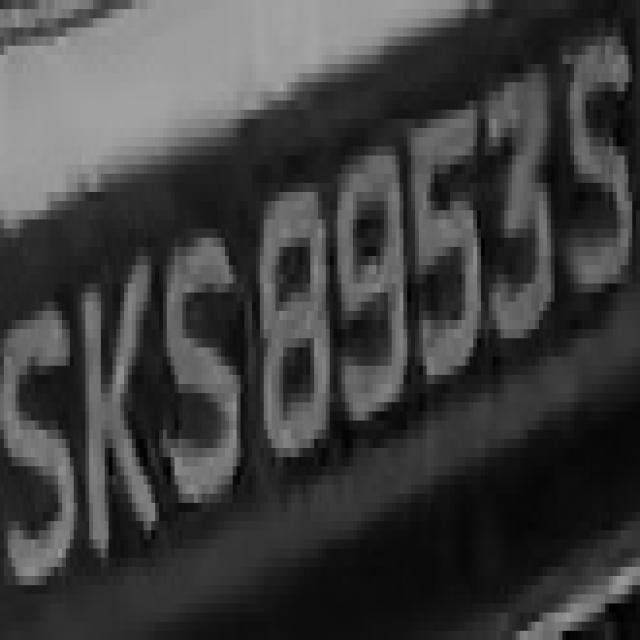3: (477, 46, 563, 375)
5: (403, 82, 481, 402)
8: (245, 156, 338, 484)
9: (322, 128, 415, 439)
K: (81, 247, 163, 576)
S: (163, 210, 244, 530), (4, 292, 77, 604), (562, 36, 632, 302)
